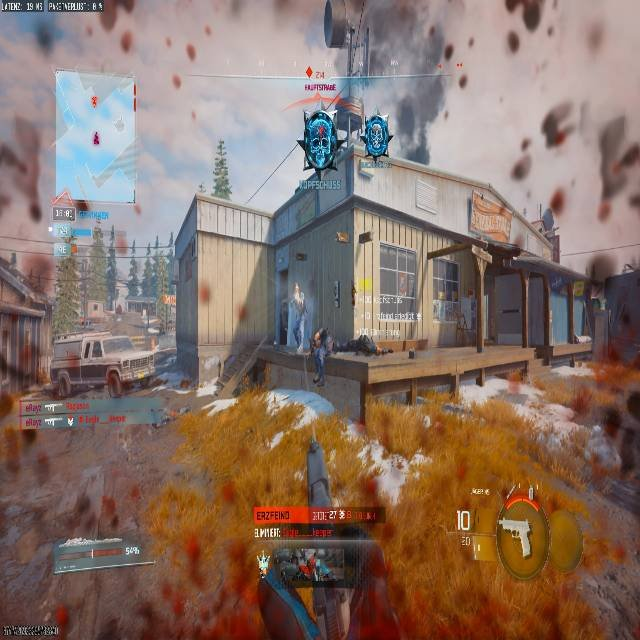head: (318, 328, 327, 338)
player: (309, 327, 333, 386)
